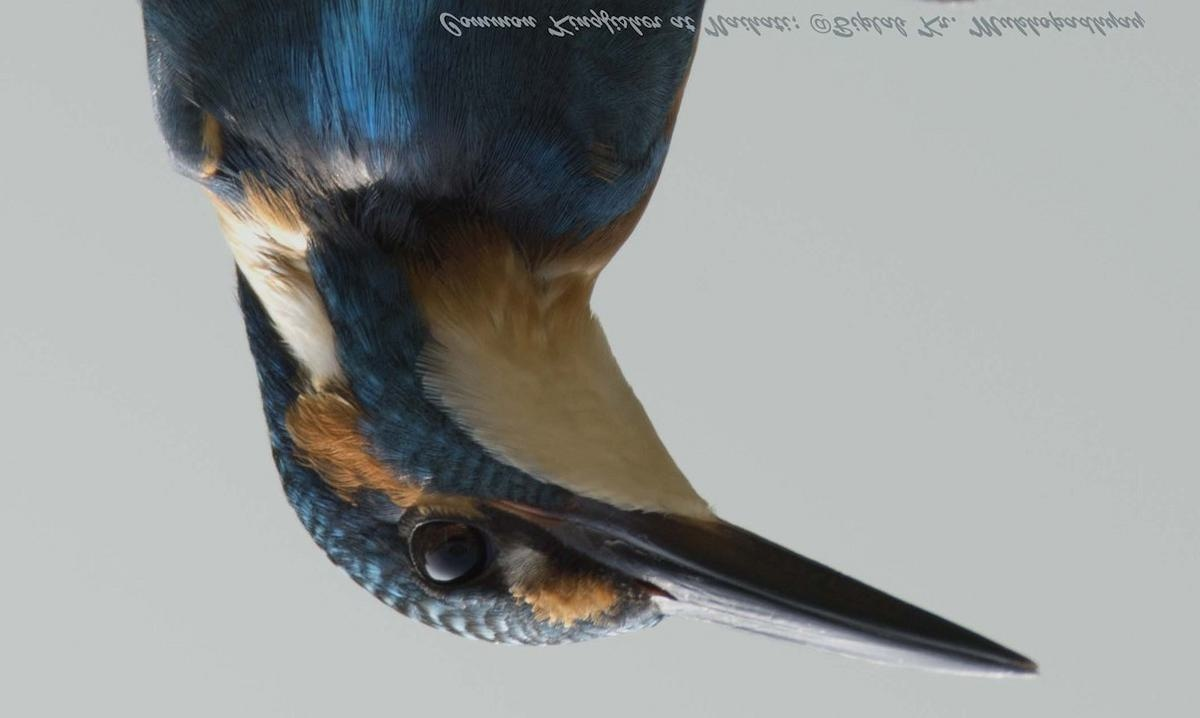kingfisher: (142, 1, 1036, 683)
